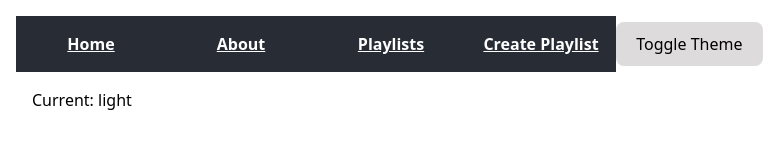
Scenario: ThemeContext and NavBar toggle › toggles theme from light to dark via NavBar button
The width and height of the screenshot is (780, 160).
expect the text "Current: light" is shown: met, box [32,89,132,111]
Click the button "Toggle Theme" at (689, 44), box [616,22,763,66]
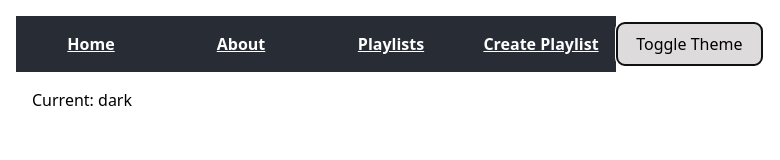
expect the text "Current: dark" is shown: met, box [32,89,132,111]
